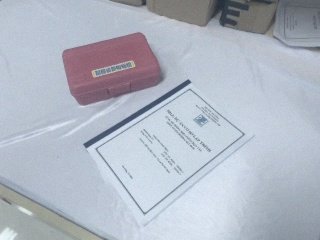box: (62, 32, 163, 104), (216, 1, 280, 35), (143, 1, 226, 27)
